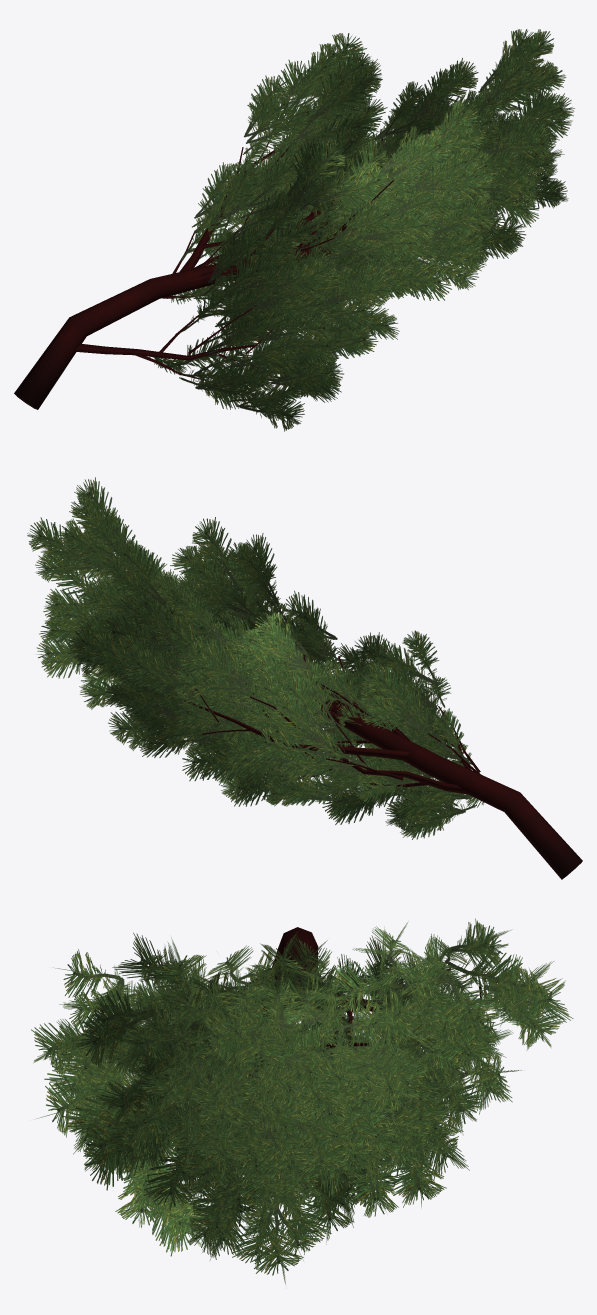
Rendered from krummholz_pine_v01_LOD1.glb.
The picture shows the model from 3 angles, top to bottom: view 1: azimuth 30°, elevation 25°; view 2: azimuth 150°, elevation 25°; view 3: azimuth 270°, elevation 25°; orthographic projection. The views are drawn at different scales.
Parts seen in each view (by area): view 1: krummholz_pine_v01_LOD1; view 2: krummholz_pine_v01_LOD1; view 3: krummholz_pine_v01_LOD1.
Part boxes in pixels (x1=…): krummholz_pine_v01_LOD1: x1=14, y1=29, x2=574, y2=431; krummholz_pine_v01_LOD1: x1=27, y1=477, x2=582, y2=879; krummholz_pine_v01_LOD1: x1=31, y1=918, x2=573, y2=1284.
Size of the model in its own units: 3.93 by 2.23 by 2.27.
2 materials, 2 textured.
